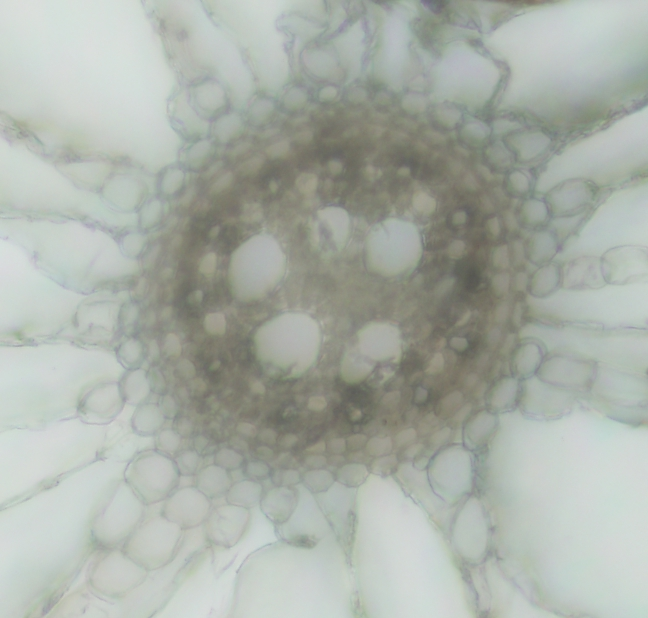lm: (251, 311, 322, 380), (337, 319, 403, 392), (226, 232, 288, 304), (362, 216, 423, 279), (304, 207, 351, 259)
